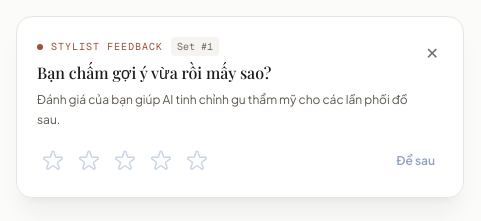
Test: RatingPrompt Component › submits rating with source "prompted" and client_session_id, shows confirmation, and auto-dismisses
Click the button named "Đánh giá 5 sao".
click(197, 161)  # box [181,145,213,177]
Wait 1500 ms
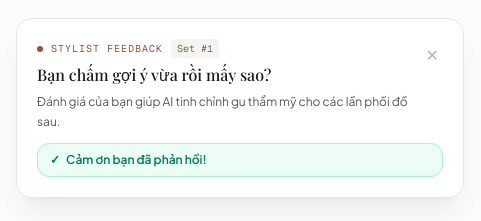
Result: the text "Cảm ơn bạn đã phản hồi!" is shown at [66,152,207,168]
